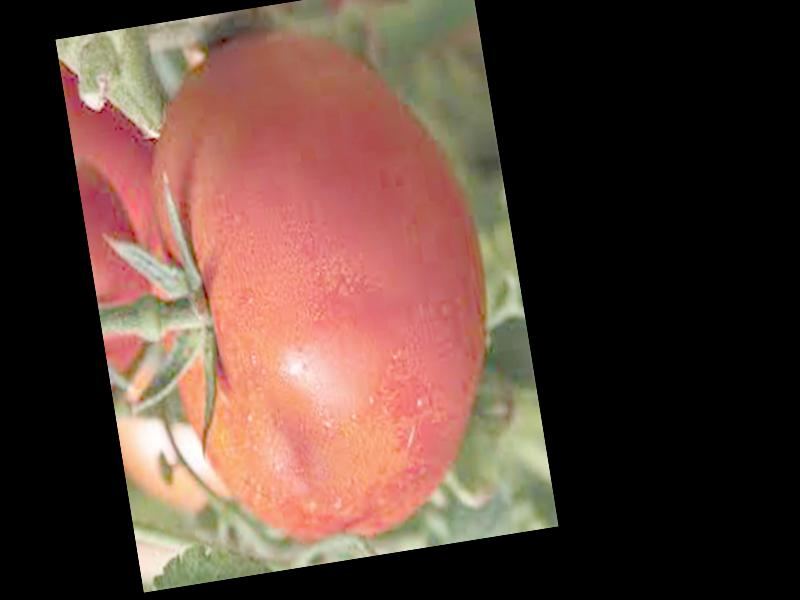Tomato: (117, 9, 518, 561)
